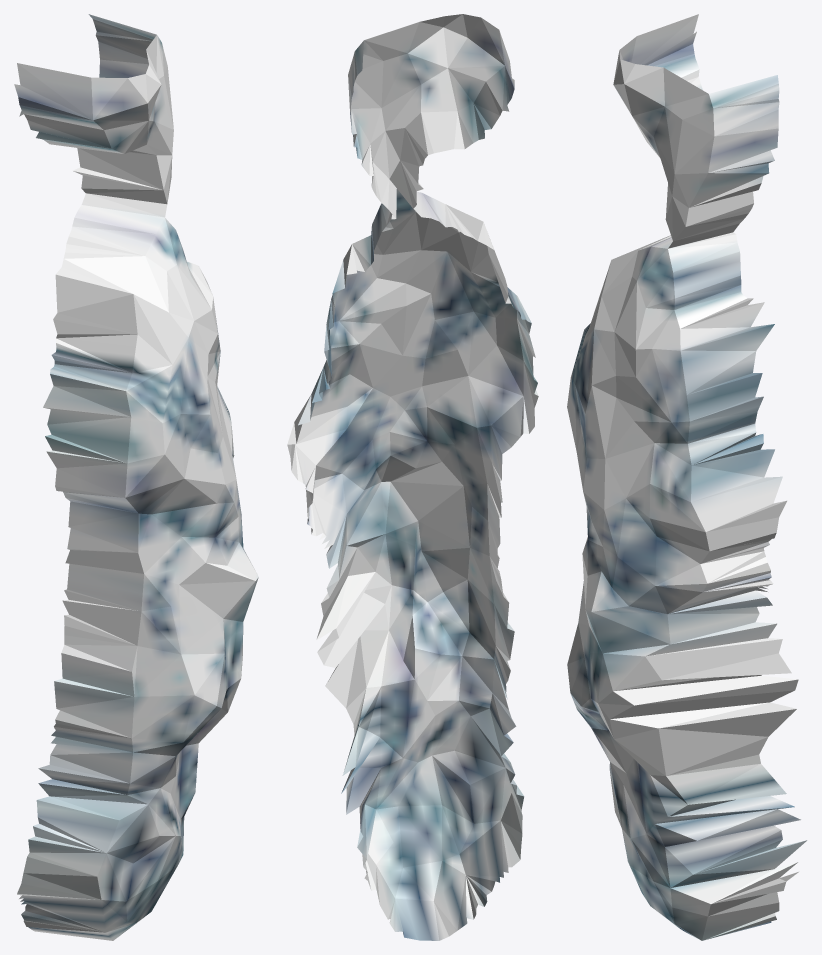
File: FridgeIceRight.fbx
3 views of the same model, side by side, from view 1: azimuth 30°, elevation 25°; view 2: azimuth 150°, elevation 25°; view 3: azimuth 270°, elevation 25° (orthographic). The views are drawn at different scales.
Visible parts, largest first — view 1: FridgeIceRight; view 2: FridgeIceRight; view 3: FridgeIceRight.
Part boxes in pixels (x1,y1,x2,y2): FridgeIceRight: (14, 14, 258, 940); FridgeIceRight: (287, 14, 538, 940); FridgeIceRight: (567, 14, 807, 940).
Size of the model in its own units: 18.24 by 69.92 by 17.36.
